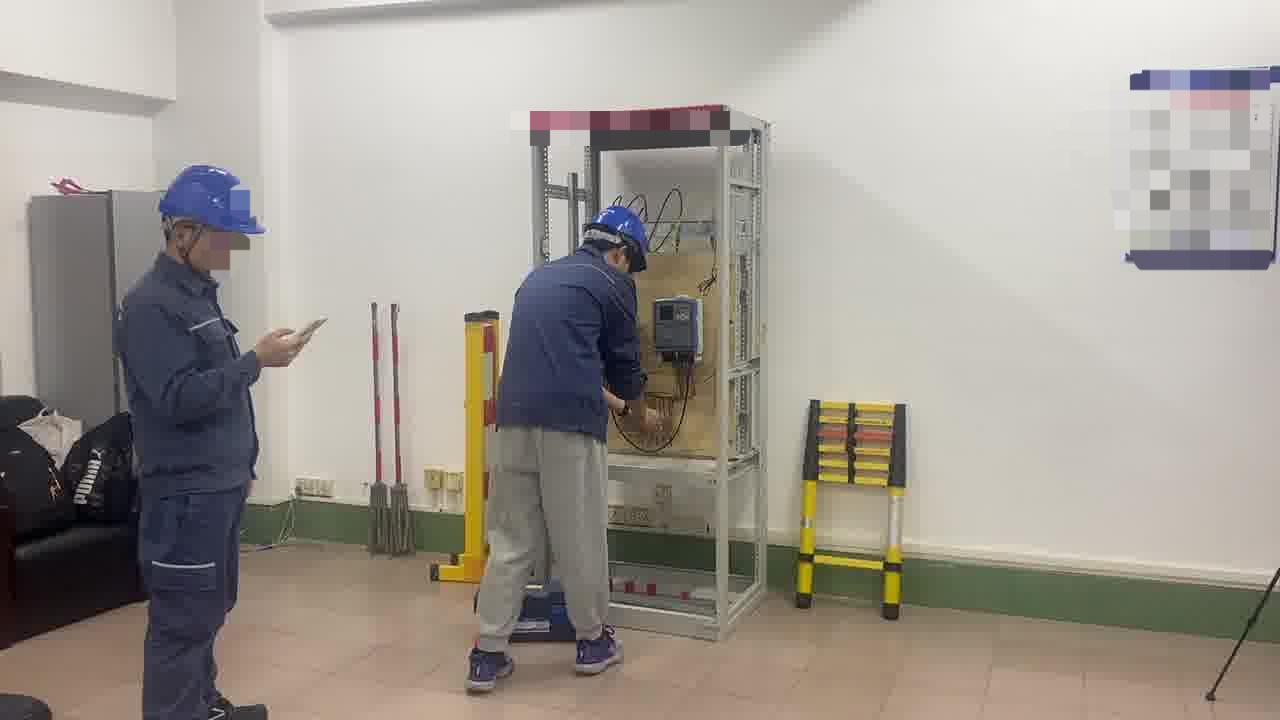halt: (157, 168, 267, 278), (588, 206, 653, 277)
inear: (169, 220, 205, 260)
noear: (609, 242, 636, 274)
